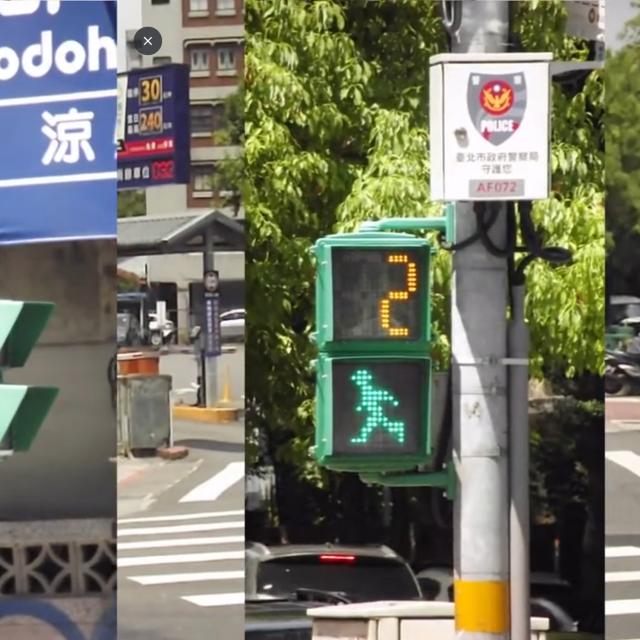green_light: (317, 241, 429, 456)
